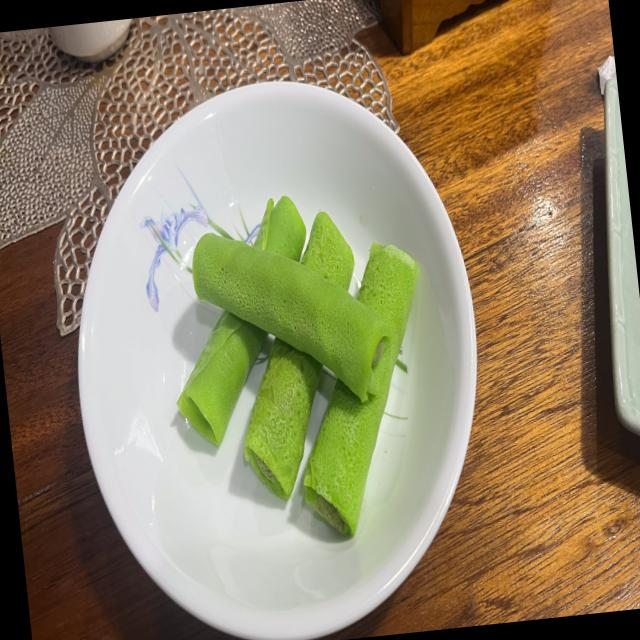Kuih-Ketayap: (304, 243, 418, 534), (192, 233, 388, 401), (243, 338, 321, 498), (177, 310, 266, 445), (302, 210, 354, 288), (254, 196, 306, 260)
